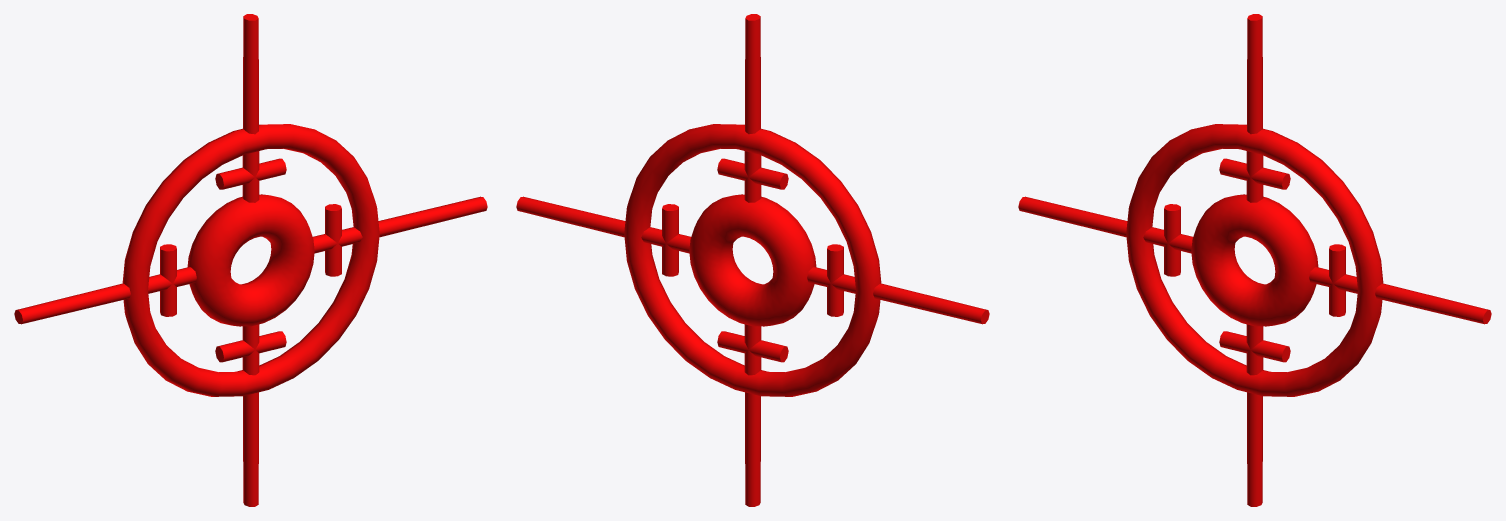
Rendered from mira.fbx.
The picture shows the model from 3 angles, left to right: view 1: azimuth 30°, elevation 25°; view 2: azimuth 150°, elevation 25°; view 3: azimuth 330°, elevation 25°; orthographic projection.
Visible parts, largest first — view 1: node_id48; view 2: node_id48; view 3: node_id48.
Boxes of the visible parts, left/top/right/bottom form: node_id48: left=14, top=14, right=487, bottom=506; node_id48: left=516, top=14, right=989, bottom=506; node_id48: left=1018, top=14, right=1491, bottom=506.
Bounding box in the file's own units: 0.512 × 0.512 × 0.0396.
1 material, 1 textured.
